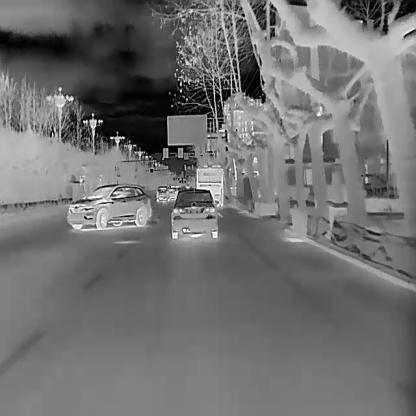bus: (195, 163, 223, 207)
car: (66, 183, 152, 230), (170, 188, 218, 238), (155, 184, 170, 202), (166, 186, 177, 200)
